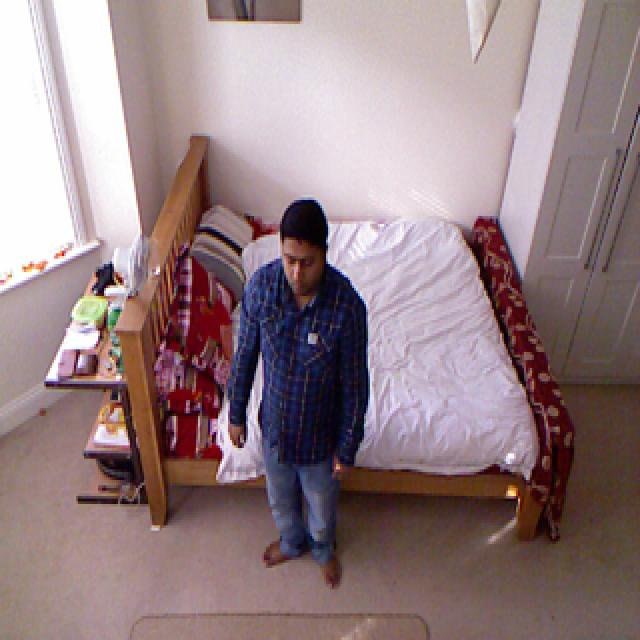standing: (227, 202, 370, 590)
